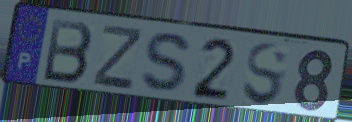2: (191, 35, 238, 104)
8: (292, 47, 336, 114)
B: (40, 17, 95, 86)
S: (138, 30, 195, 97), (240, 41, 291, 110)
Z: (91, 23, 146, 94)
